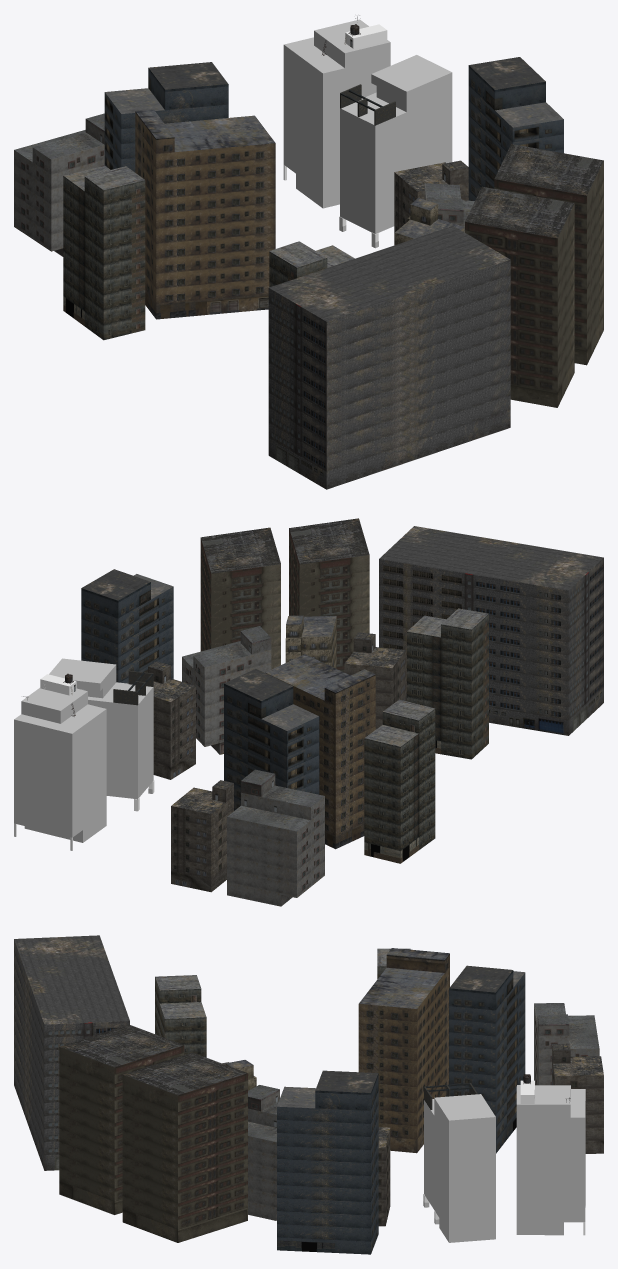
The model's file is Buildings Set 07.fbx.
3 renders of one model, top to bottom at view 1: azimuth 30°, elevation 25°; view 2: azimuth 150°, elevation 25°; view 3: azimuth 270°, elevation 25°, orthographic. The views are drawn at different scales.
Parts seen in each view (by area): view 1: Tower05, Tower07, Tower04 (×2), Tower09 (×2), Tower10 (×2), HighendTall, BalconyTall_01, Tower02 (×2), Tower03, Tower06; view 2: Tower05, Tower10 (×2), Tower09 (×2), Tower04 (×2), Tower02 (×2), Tower03 (×3), BalconyTall_01, Tower07, HighendTall, Tower06; view 3: Tower04 (×2), Tower09 (×2), Tower05, Tower07, BalconyTall_01, HighendTall, Tower02 (×2), Tower03 (×2), Tower10.
Part boxes in pixels (<box>): Tower05: <box>268,226,510,489</box>; Tower07: <box>135,109,275,319</box>; Tower04 (×2): <box>465,144,603,407</box>; Tower09 (×2): <box>104,57,563,200</box>; Tower10 (×2): <box>63,165,354,340</box>; HighendTall: <box>340,55,452,247</box>; BalconyTall_01: <box>283,19,390,208</box>; Tower02 (×2): <box>14,113,474,256</box>; Tower03: <box>394,160,468,244</box>; Tower06: <box>394,198,464,244</box>; Tower05: <box>379,526,603,735</box>; Tower10 (×2): <box>364,608,488,863</box>; Tower09 (×2): <box>81,569,319,810</box>; Tower04 (×2): <box>200,518,369,672</box>; Tower02 (×2): <box>182,626,324,906</box>; Tower03 (×3): <box>148,632,406,892</box>; BalconyTall_01: <box>14,688,106,842</box>; Tower07: <box>265,654,375,849</box>; HighendTall: <box>49,658,153,799</box>; Tower06: <box>285,615,336,668</box>; Tower04 (×2): <box>59,1024,247,1242</box>; Tower09 (×2): <box>277,965,525,1254</box>; Tower05: <box>14,935,129,1170</box>; Tower07: <box>358,948,449,1153</box>; BalconyTall_01: <box>516,1085,585,1235</box>; HighendTall: <box>423,1094,495,1242</box>; Tower02 (×2): <box>248,1003,599,1220</box>; Tower03 (×2): <box>378,1043,603,1226</box>; Tower10: <box>155,975,206,1057</box>.
Bounding box in the file's own units: 147 × 63.29 × 209.
